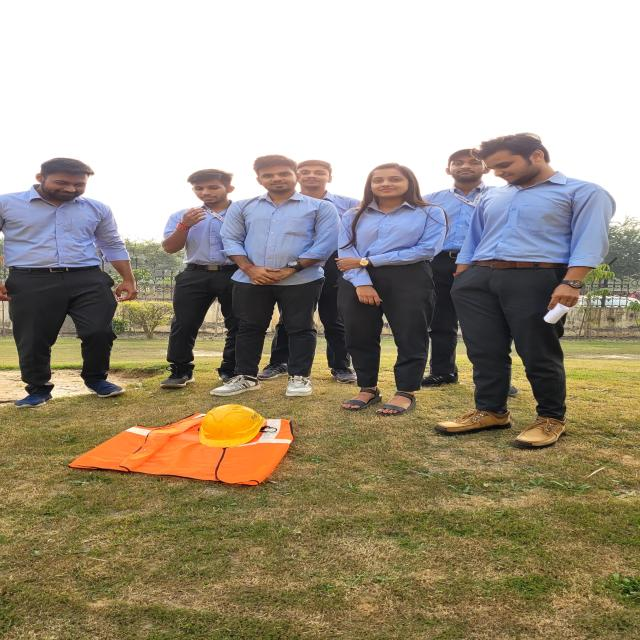unsafe: (462, 134, 596, 450), (2, 156, 126, 399), (227, 152, 324, 396), (335, 161, 428, 413), (156, 171, 245, 384)
